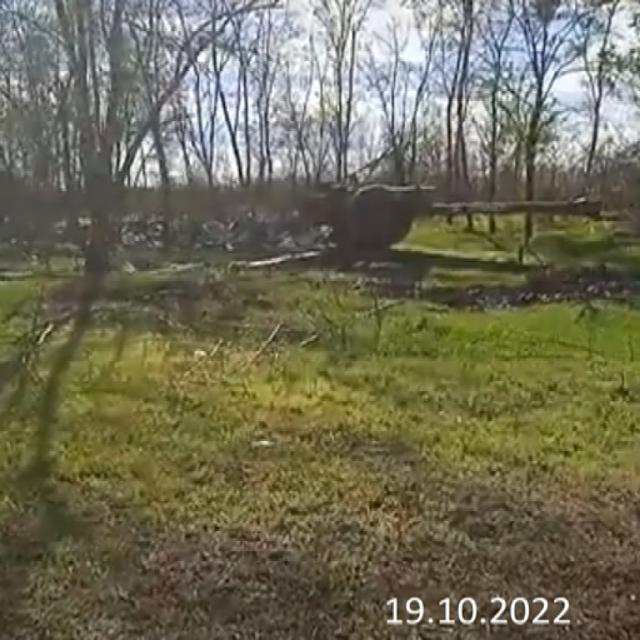ART: (302, 176, 602, 280)
